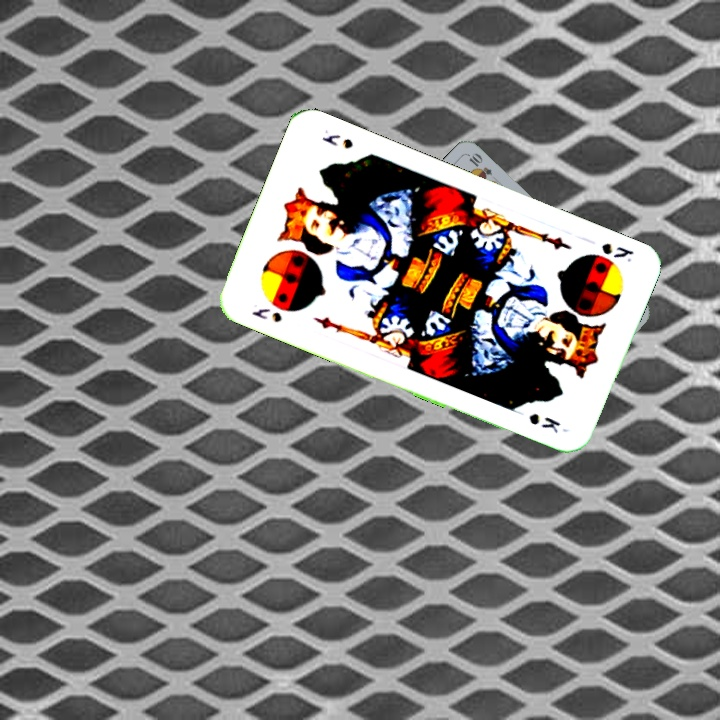SK: (597, 238, 637, 265), (248, 304, 285, 325)
